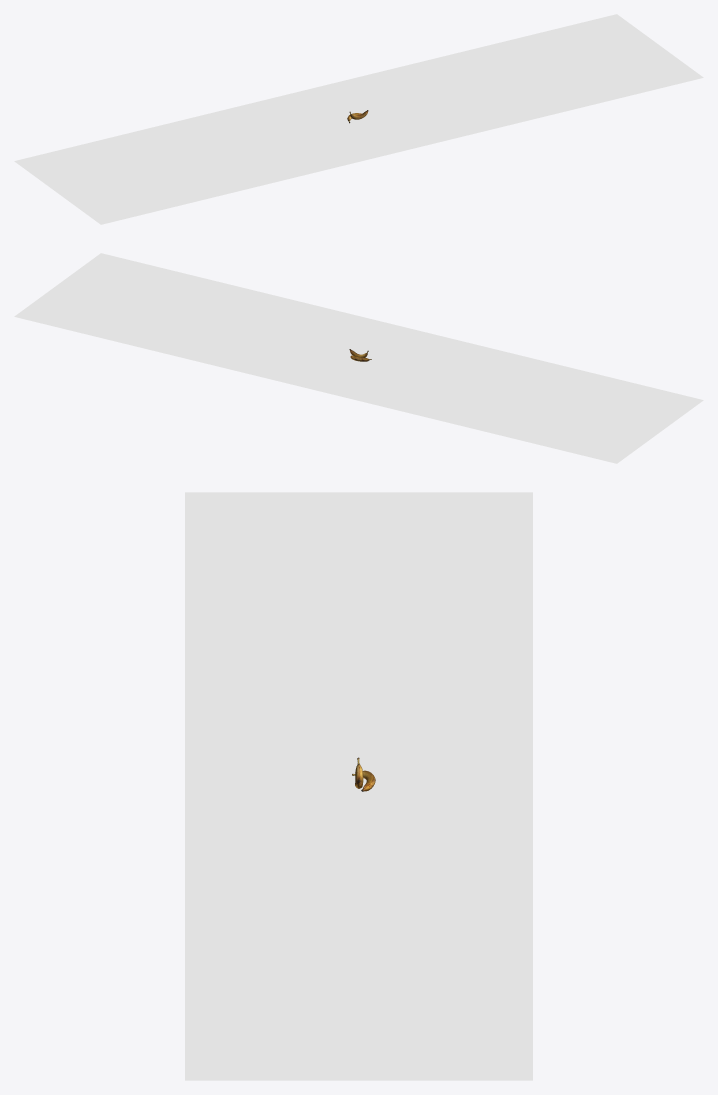
The model's file is Banana.obj.
3 renders of one model, top to bottom at view 1: azimuth 30°, elevation 25°; view 2: azimuth 150°, elevation 25°; view 3: azimuth 270°, elevation 25°, orthographic. The views are drawn at different scales.
Parts seen in each view (by area): view 1: Banana001; view 2: Banana001; view 3: Banana001.
Boxes of the visible parts, left/top/right/bottom form: Banana001: left=14, top=14, right=703, bottom=224; Banana001: left=14, top=253, right=703, bottom=463; Banana001: left=185, top=492, right=532, bottom=1080.
Bounding box in the file's own units: 8000 × 127 × 2000.
2 materials, 2 textured.
